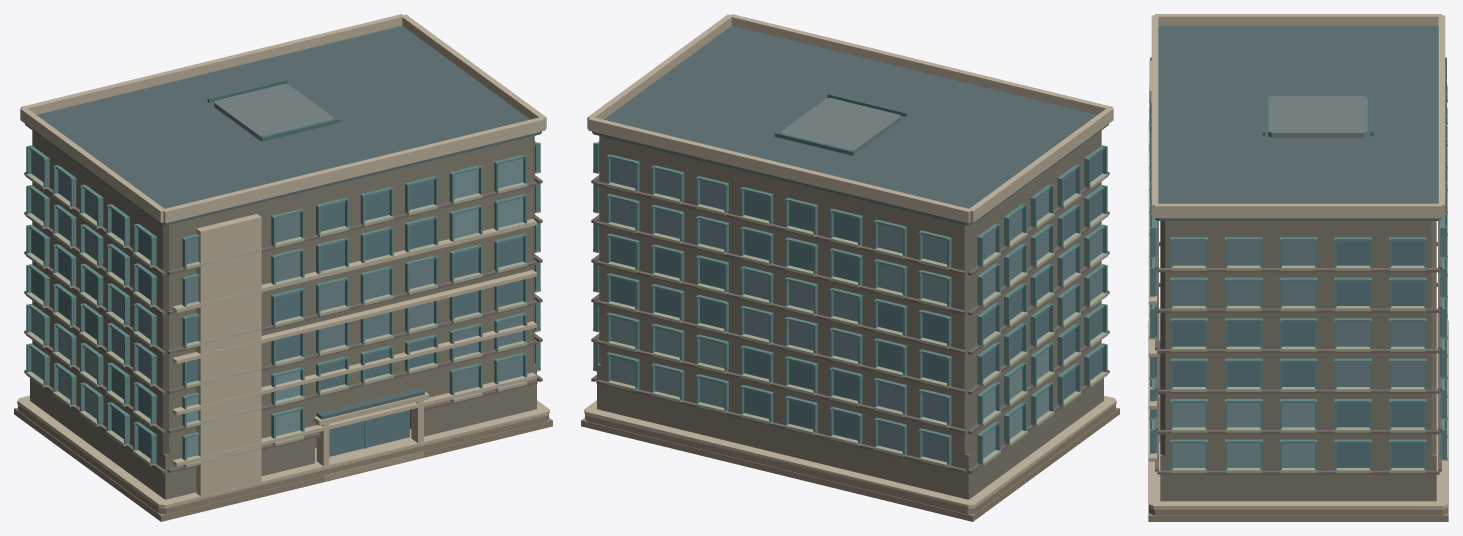
3 views of the same model, side by side, from view 1: azimuth 30°, elevation 25°; view 2: azimuth 150°, elevation 25°; view 3: azimuth 270°, elevation 25° (orthographic). The views are drawn at different scales.
Visible parts, largest first — view 1: form, relief, glaze, glowing; view 2: form, relief, glaze, glowing; view 3: form, glaze, relief, glowing.
Boxes of the visible parts, x1,y1,x2,y2 form: form: [14, 14, 552, 521]; relief: [26, 141, 540, 467]; glaze: [31, 146, 534, 461]; glowing: [58, 170, 478, 361]; form: [581, 14, 1119, 521]; relief: [593, 141, 1107, 467]; glaze: [599, 146, 1102, 462]; glowing: [655, 169, 1048, 411]; form: [1148, 14, 1448, 521]; glaze: [1155, 220, 1441, 467]; relief: [1149, 57, 1447, 472]; glowing: [1227, 241, 1314, 386].
Bounding box in the file's own units: 20 × 15 × 13.
